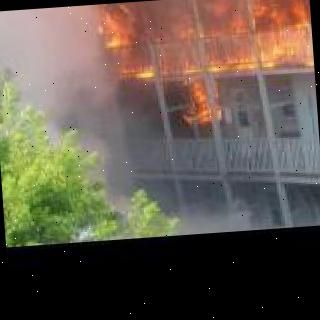fire: (0, 2, 139, 211), (91, 0, 314, 88), (154, 188, 270, 234), (97, 0, 310, 22), (164, 68, 224, 138)
